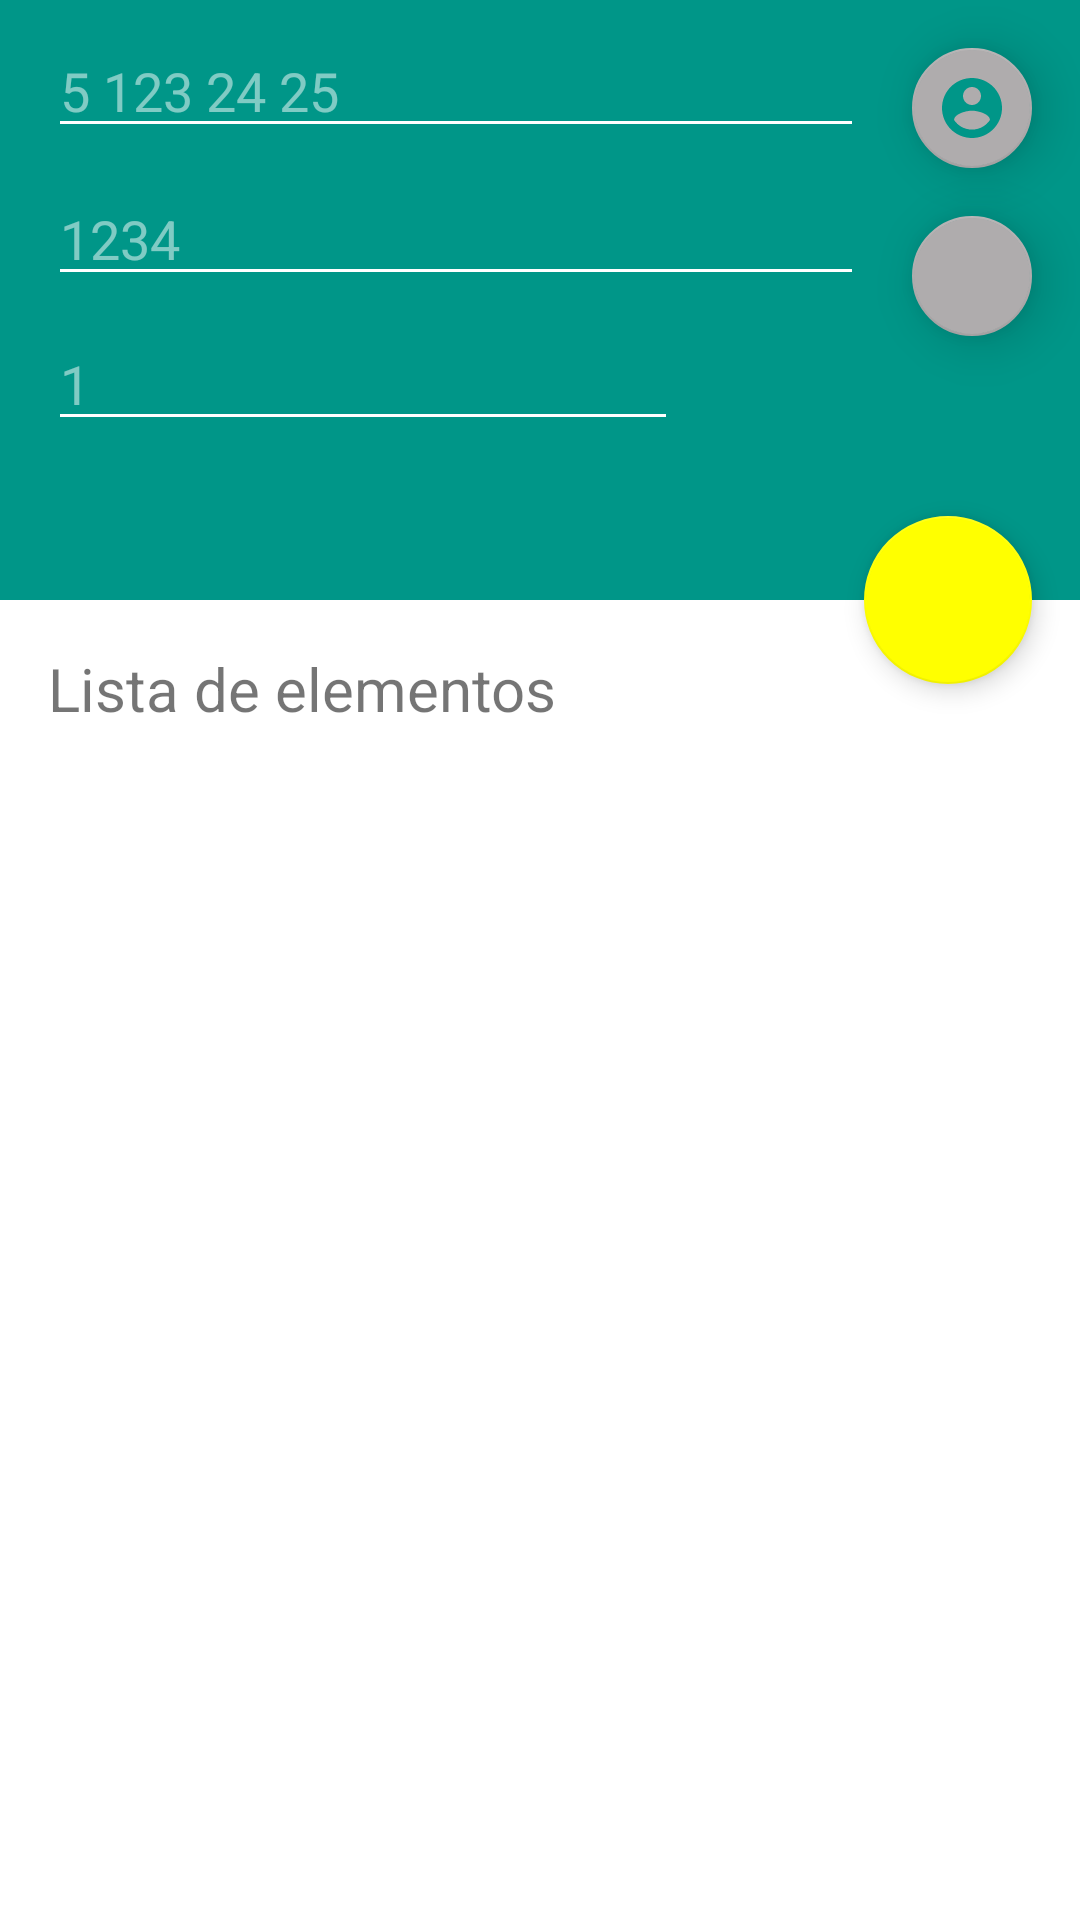

Icon click points for this 1080×1920 phone screenshot, format (x=x, y=y):
account: (x=972, y=108)
